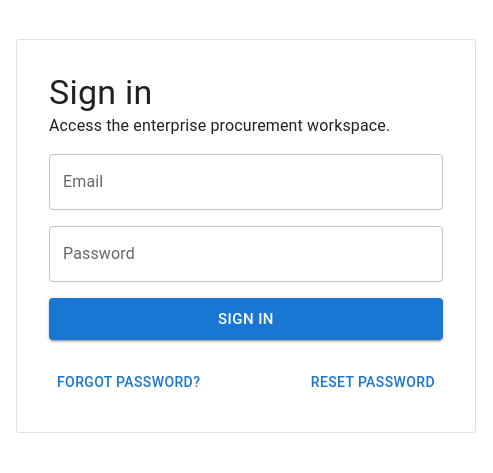
Scenario: auth forms › validates login form and shows errors
Click the button "Sign in": x=246, y=319 [49,298,443,340]
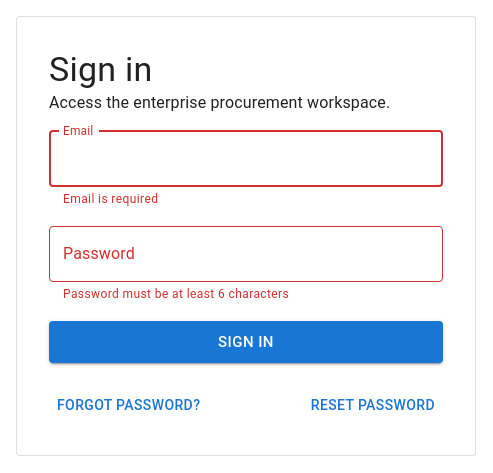
Check: the text "Email is required" is shown, box [63,192,158,206]
Check: the text "Password must be at least 6 characters" is shown, box [63,287,289,301]
